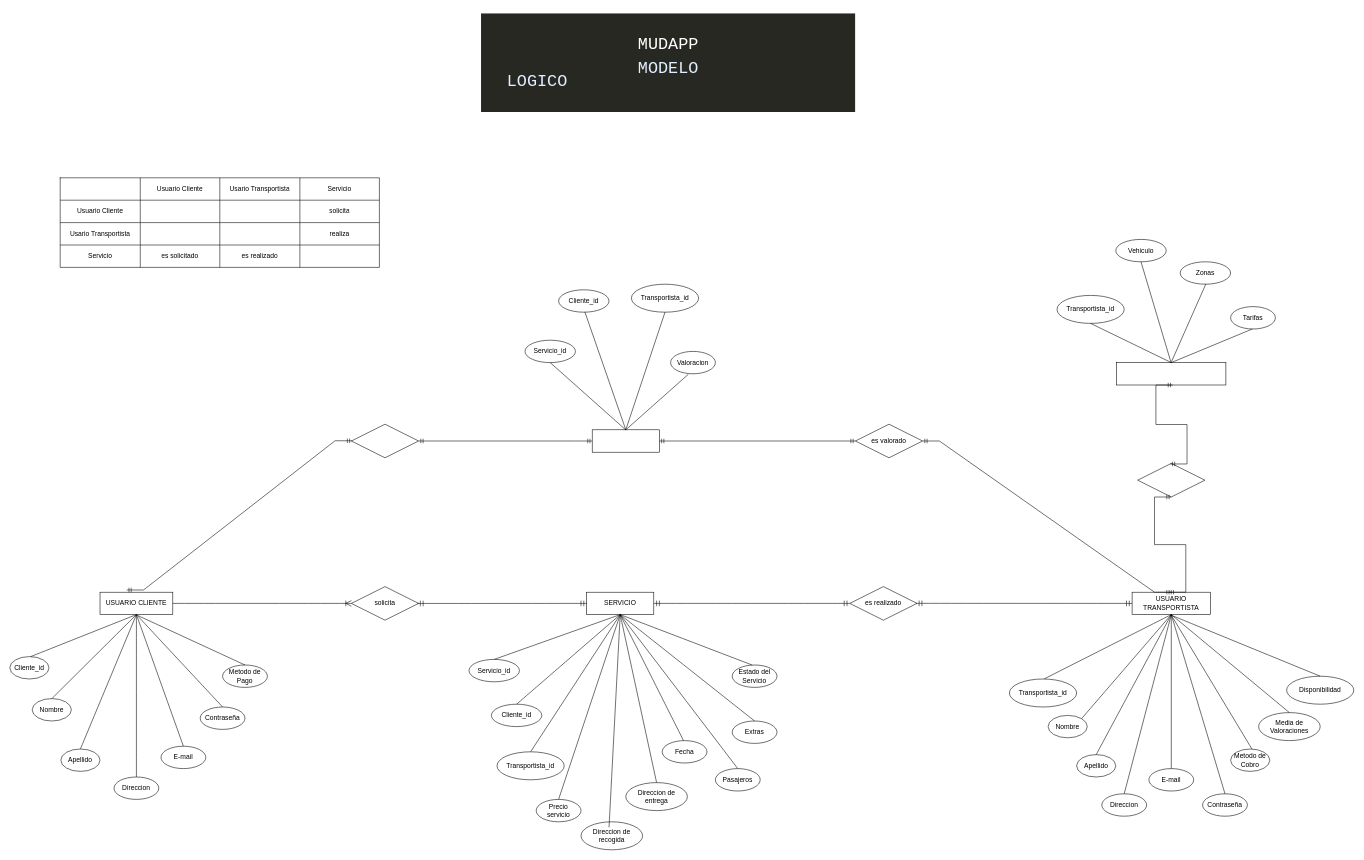
Image size: 1364x860. Some labels were removed from this diagram. The shapes that lost their labels are listed below. From the top down, each one's centre as x and y in pixels, then its label:
(1171,373): OPCIONES DE SERVICIO
(385,441): valora
(625,440): VALORACIONES
(1171,480): escoge
